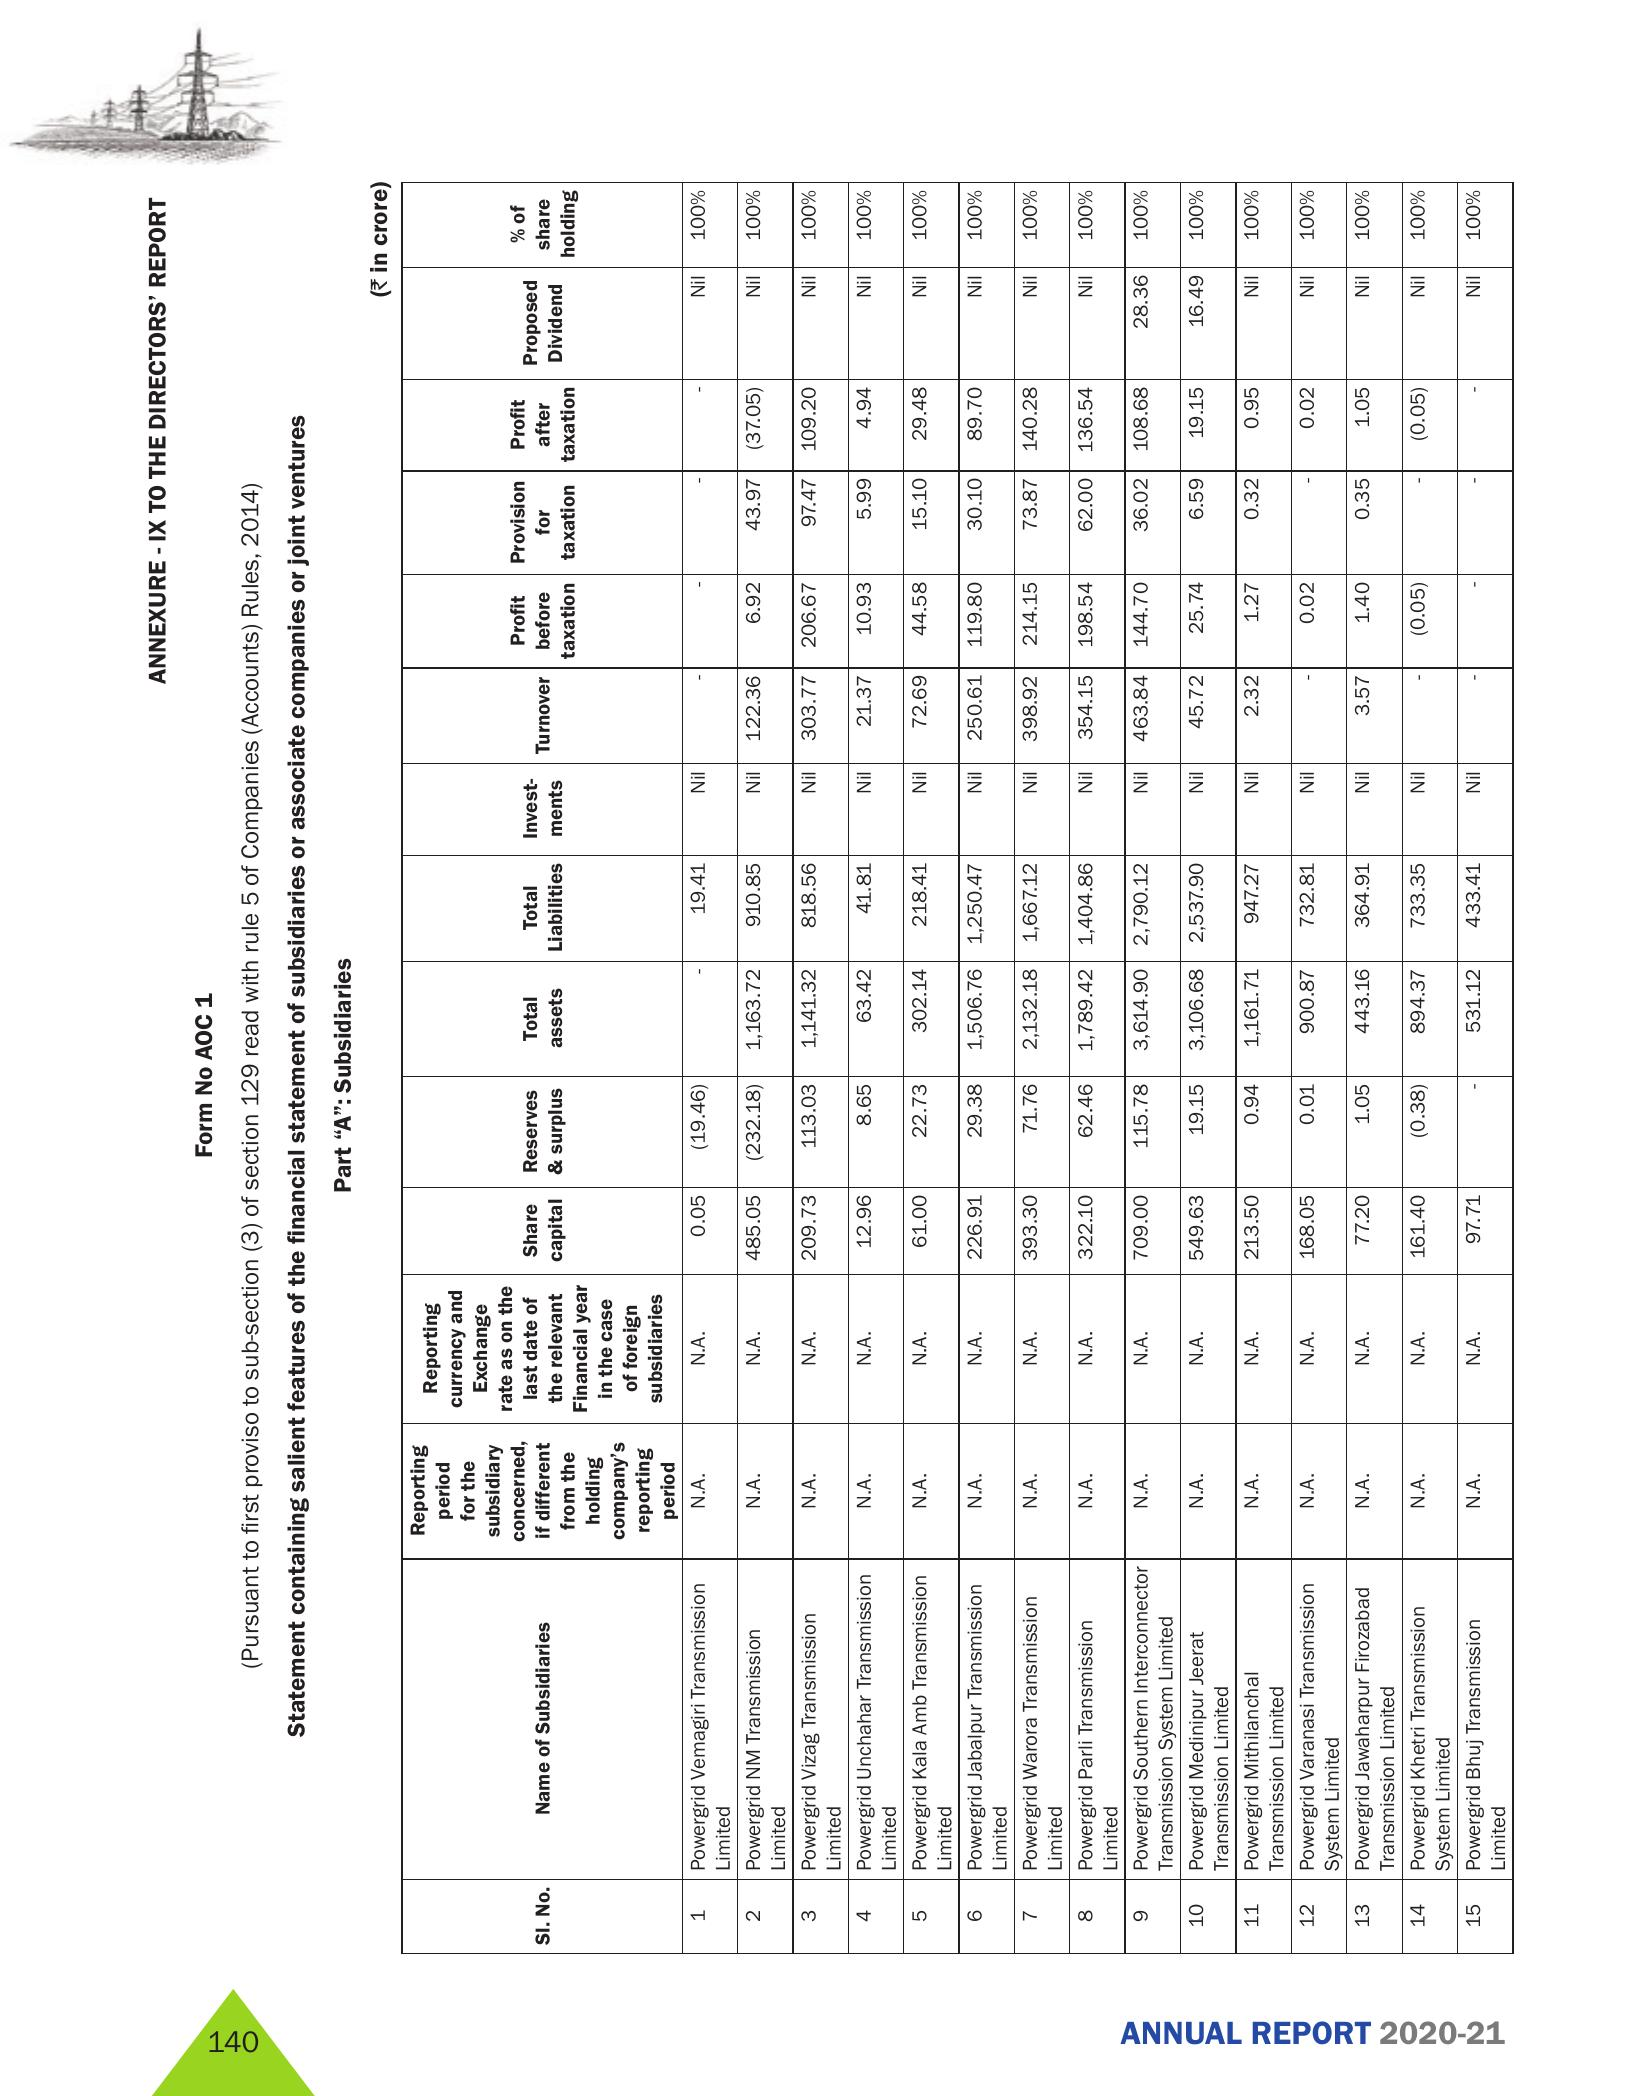Footer: (0, 1982, 1650, 2096)
Header: (0, 0, 1650, 172)
Table: (350, 180, 1577, 1979)
